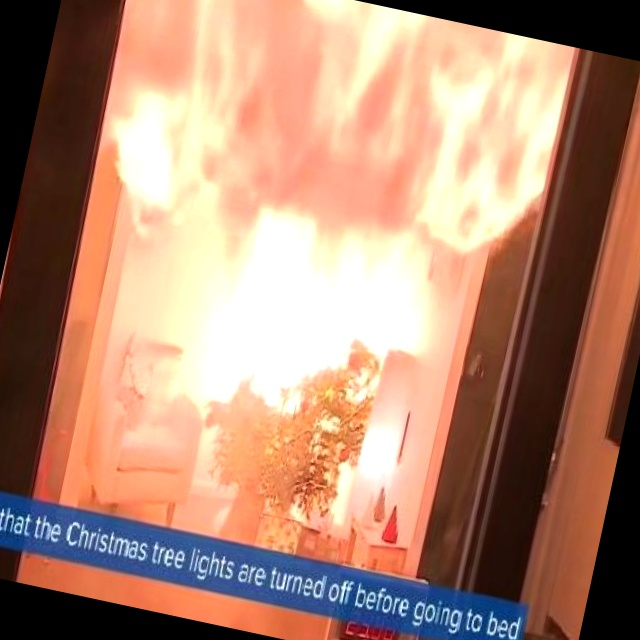fire: (53, 0, 579, 457)
